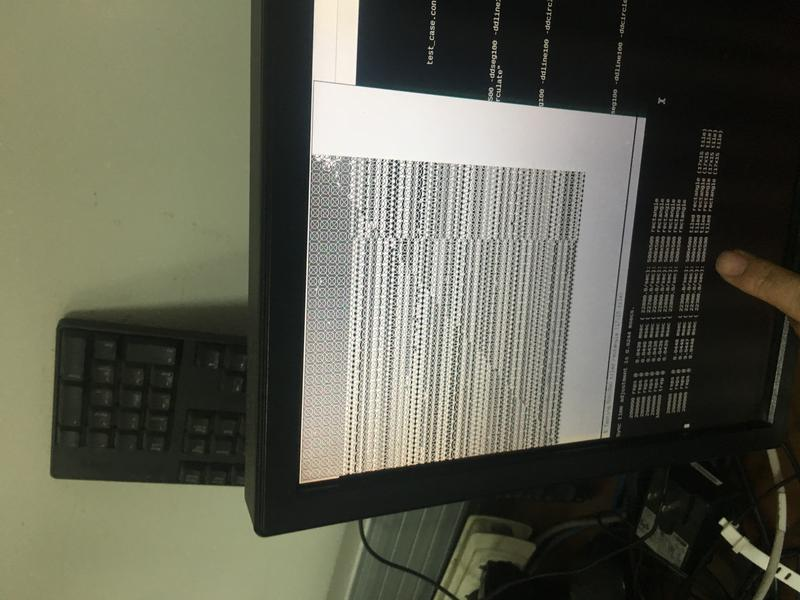xrandr_pass: (293, 72, 661, 482)
